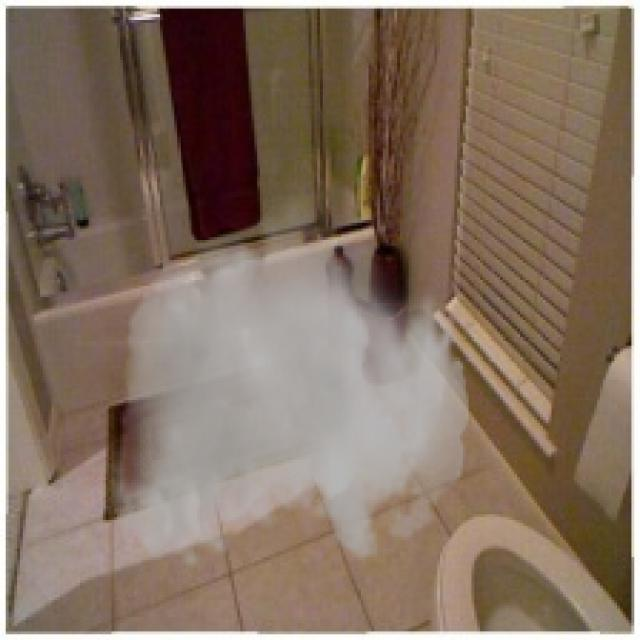smoke: (109, 188, 468, 572)
